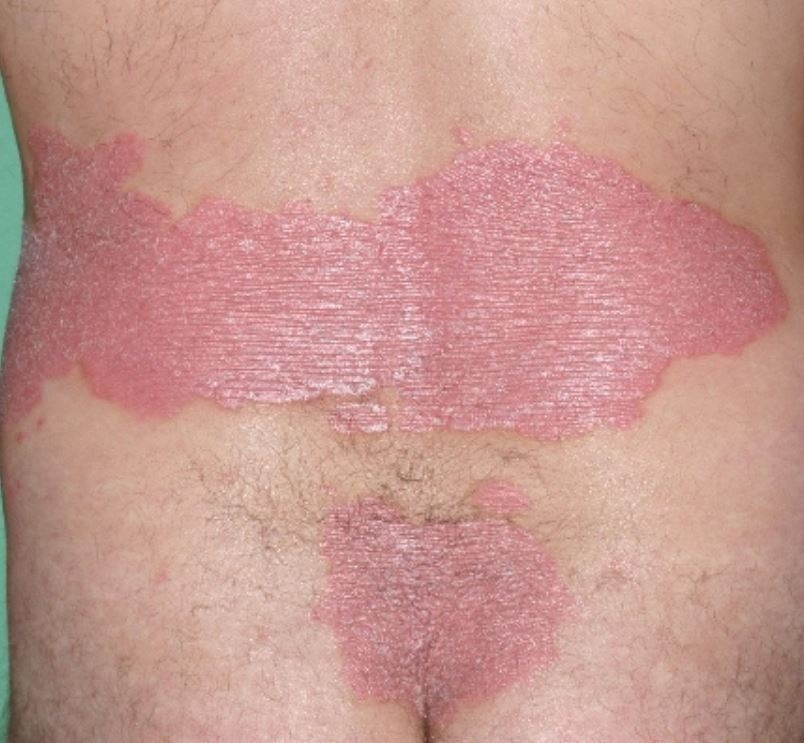Psoriasis: (0, 129, 788, 428), (309, 466, 581, 723)
